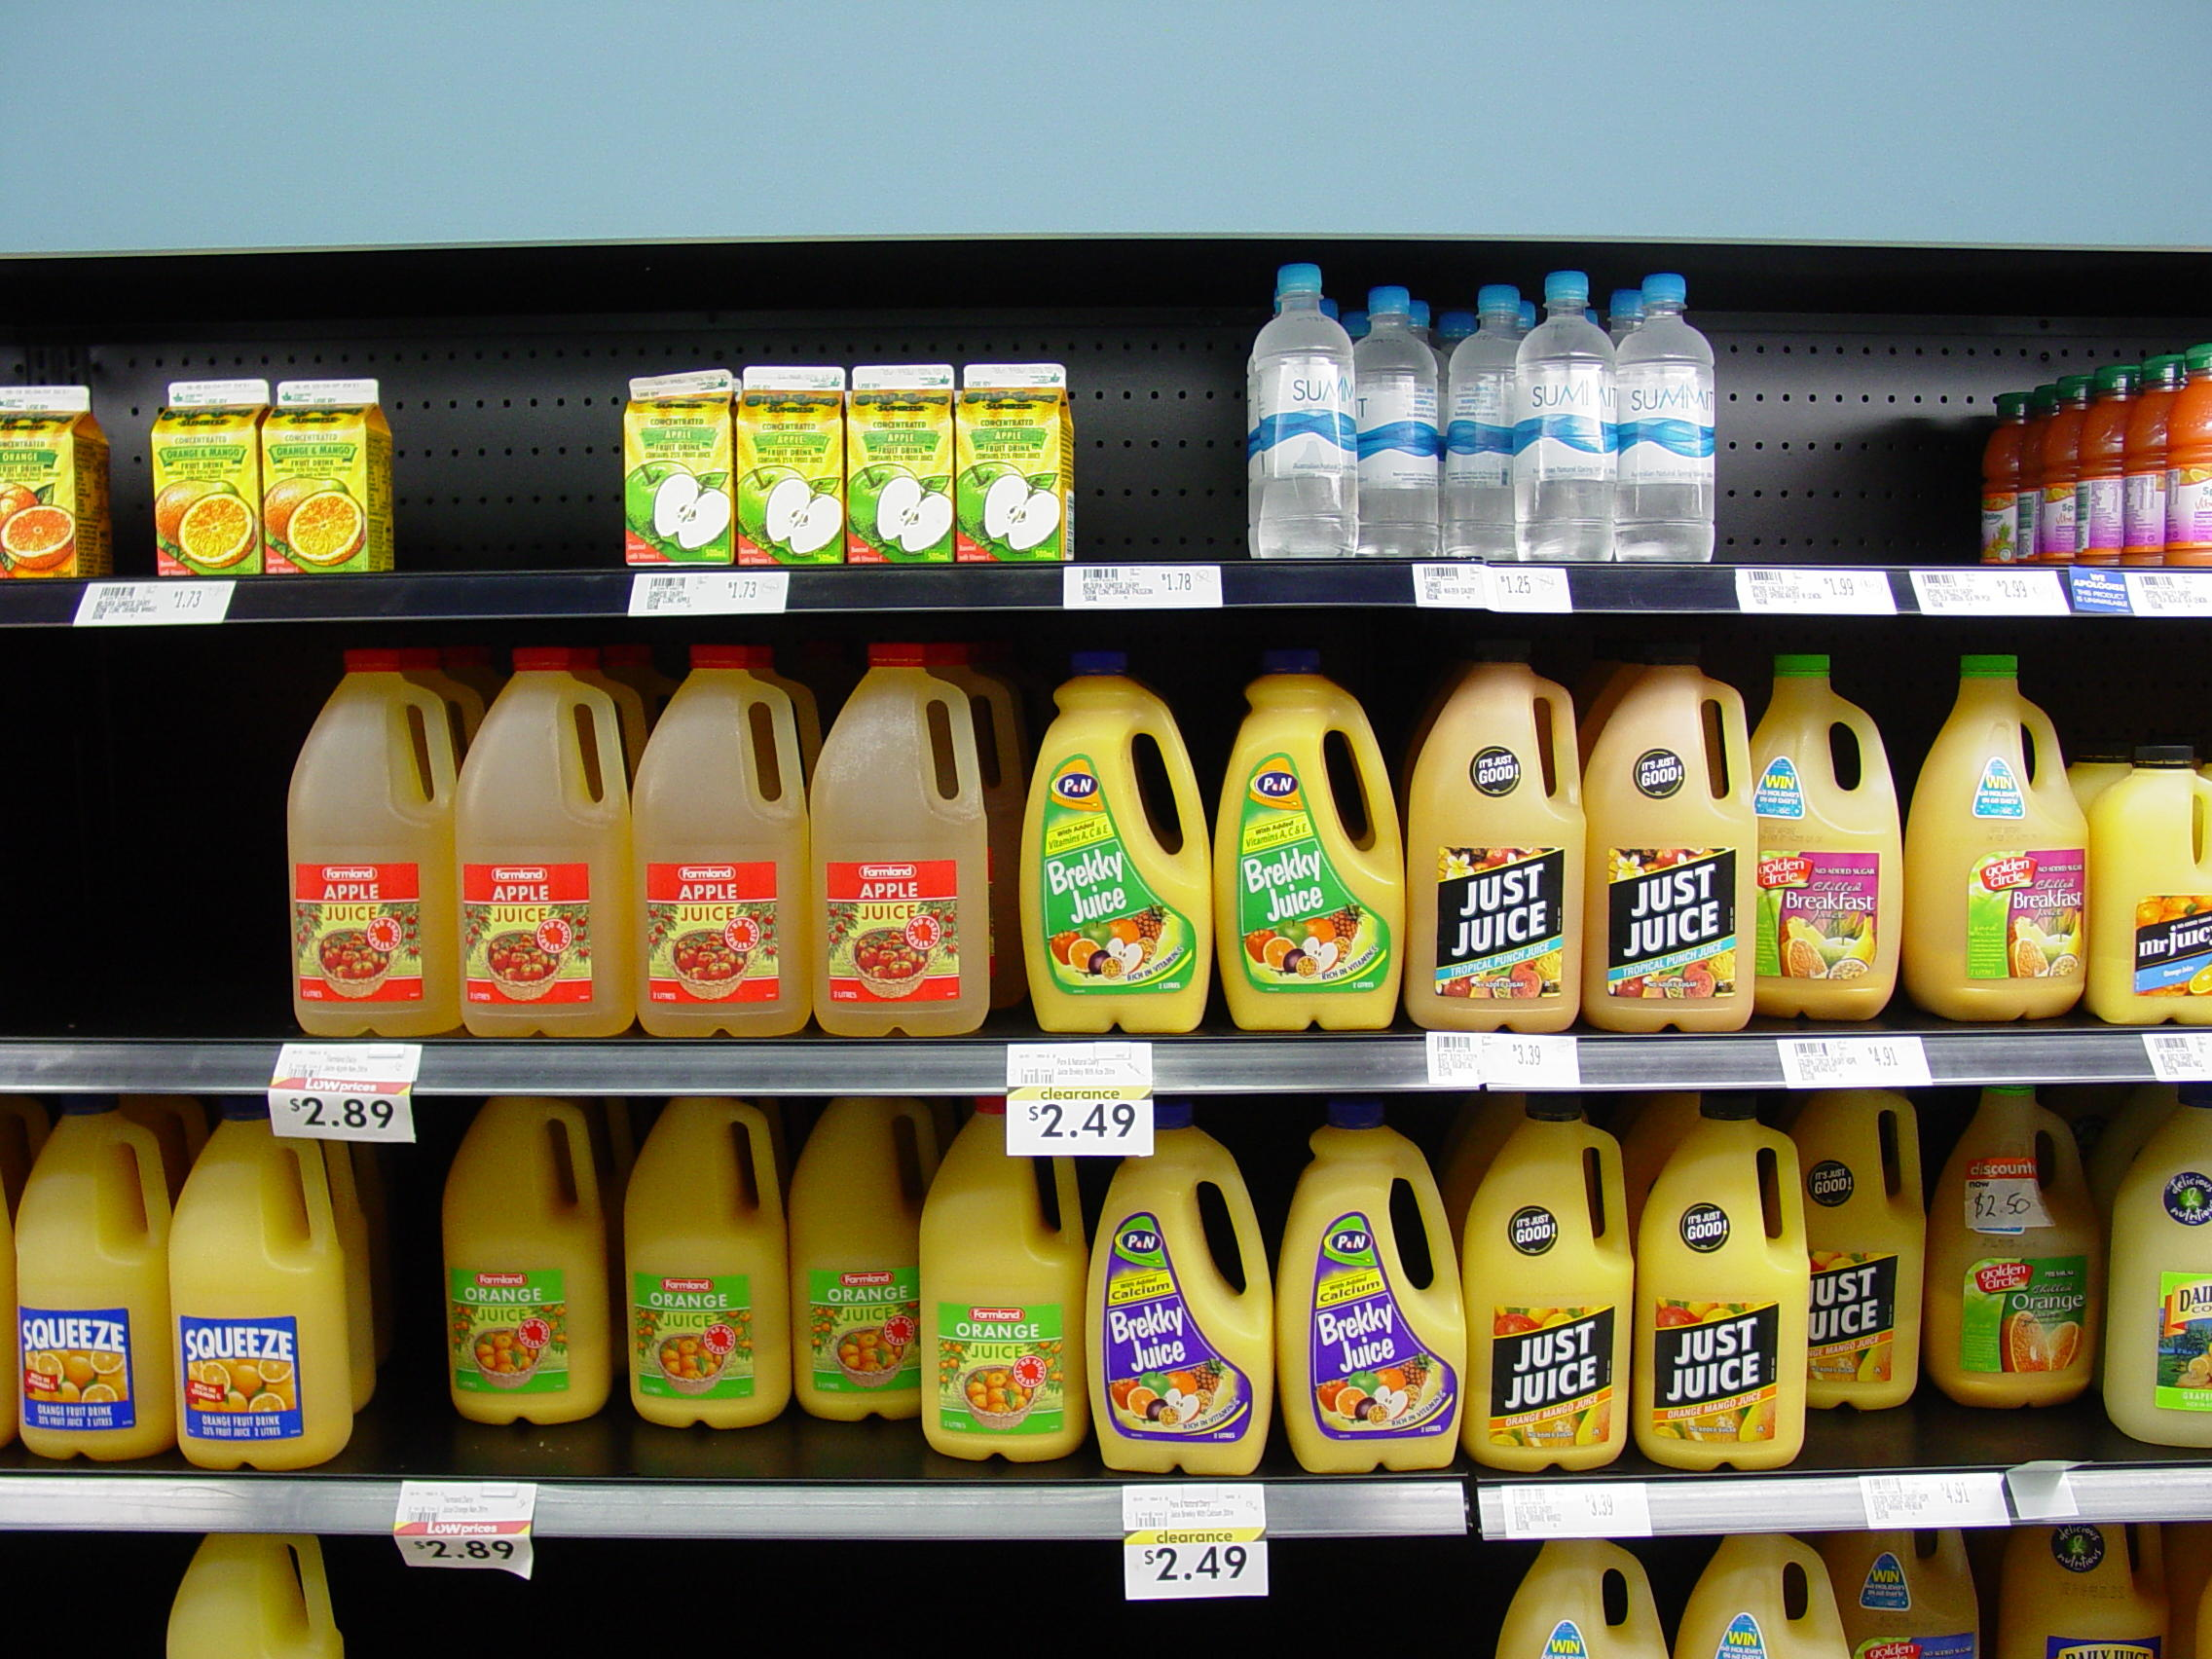Out-of-stock: (26, 638, 286, 1046), (1710, 263, 1986, 554), (387, 256, 618, 566), (1073, 246, 1252, 561)
